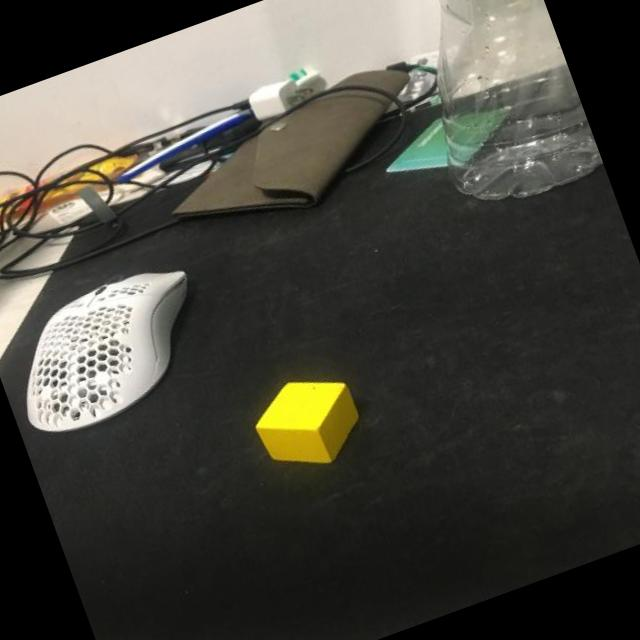yellow: (246, 362, 370, 482)
